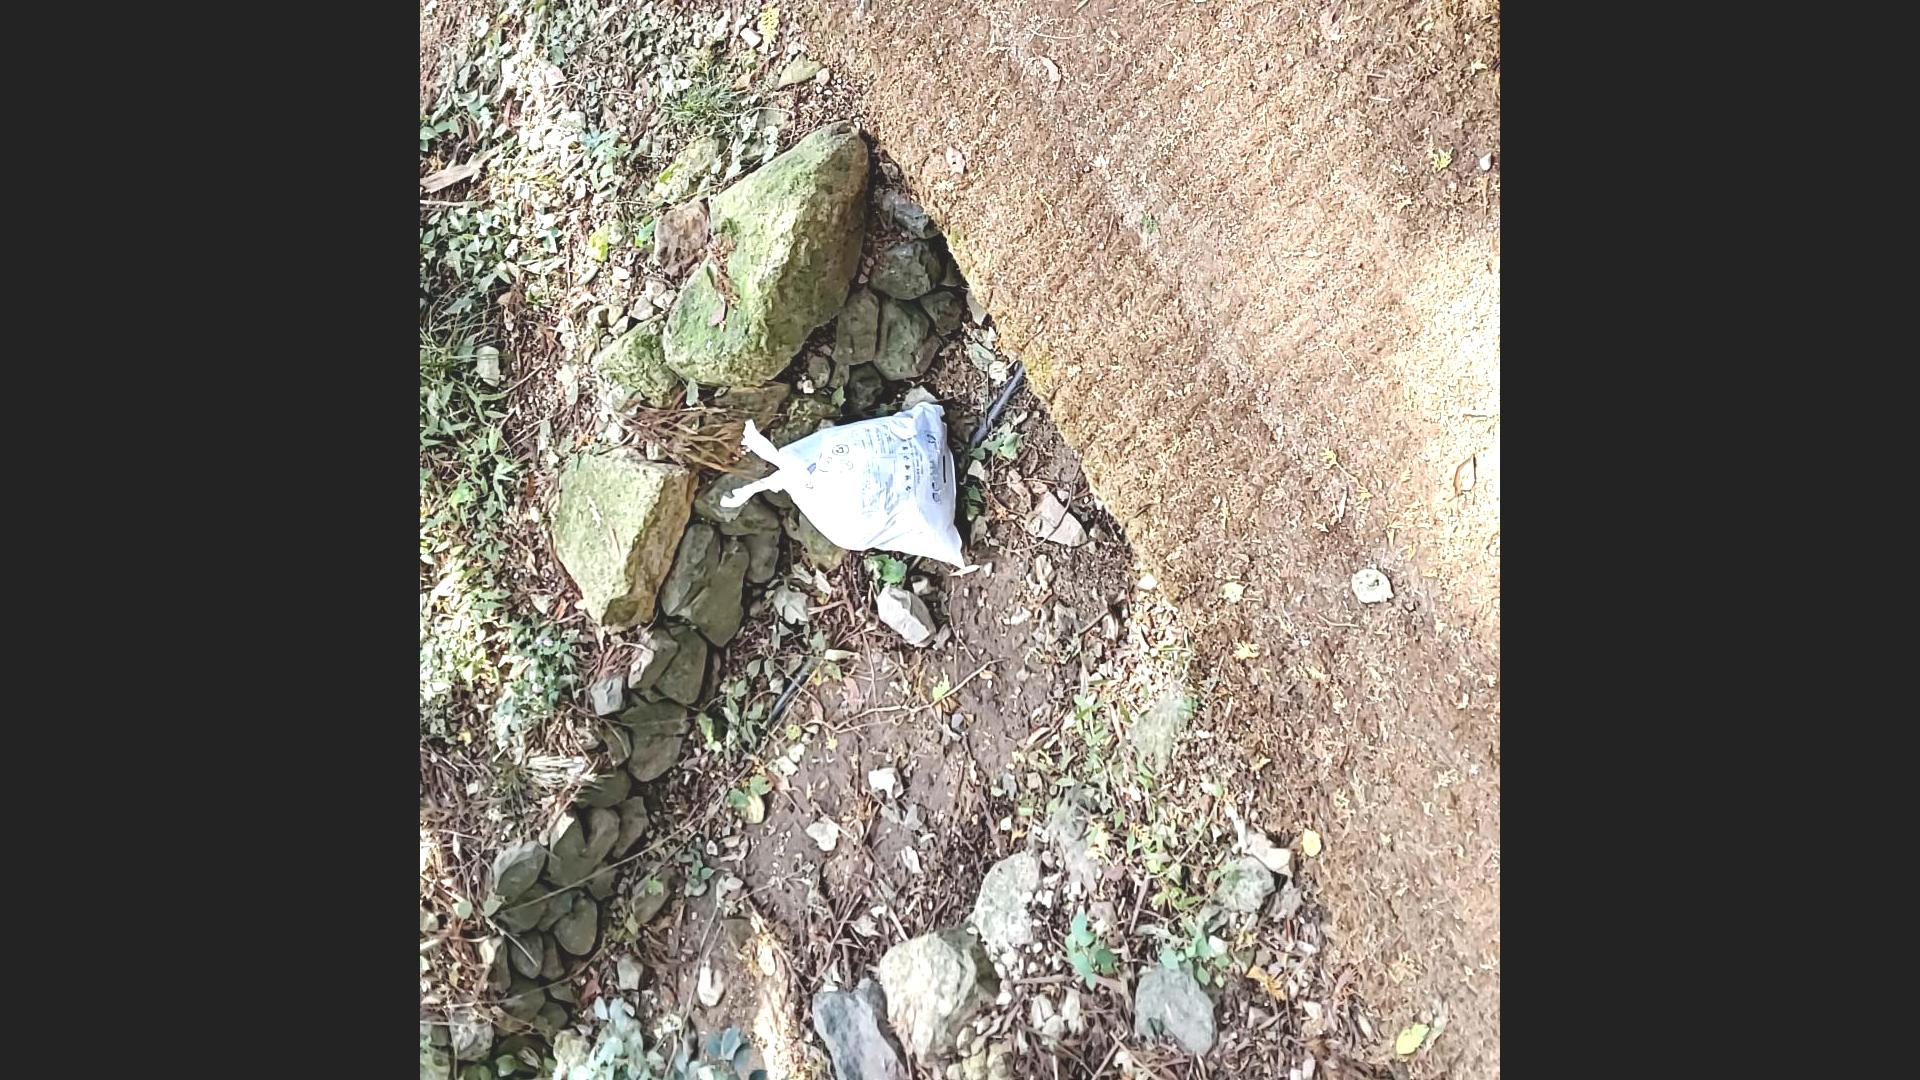white_bag: (713, 389, 967, 582)
